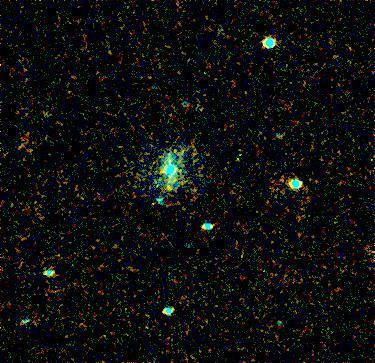star: (158, 172, 188, 202)
